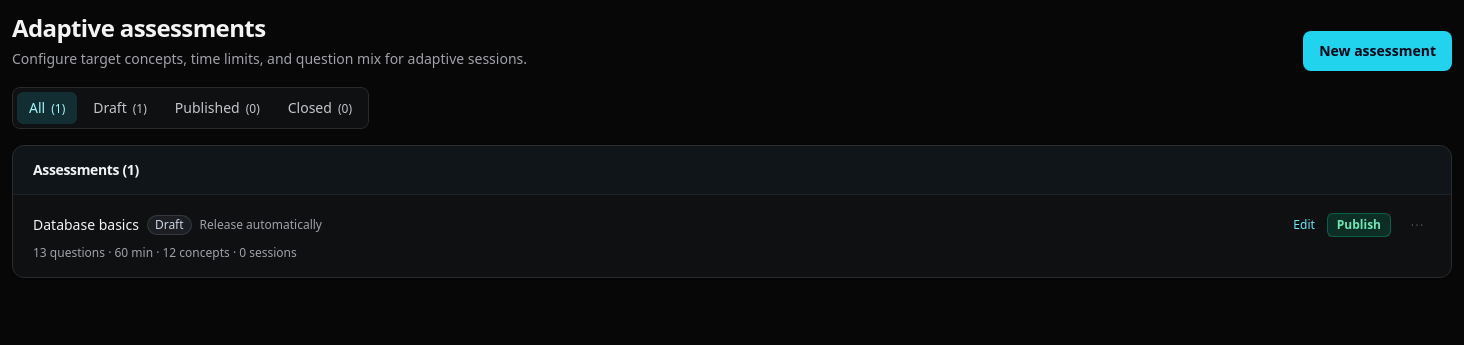
Scenario: blocks competing assessment actions until activation and reload finish
This screenshot has width=1464, height=345.
Check: the text "Database basics" is shown, box x1=33 y1=215 x2=139 y2=235
Click the button "Publish": (1359, 225) x1=1327 y1=213 x2=1391 y2=237
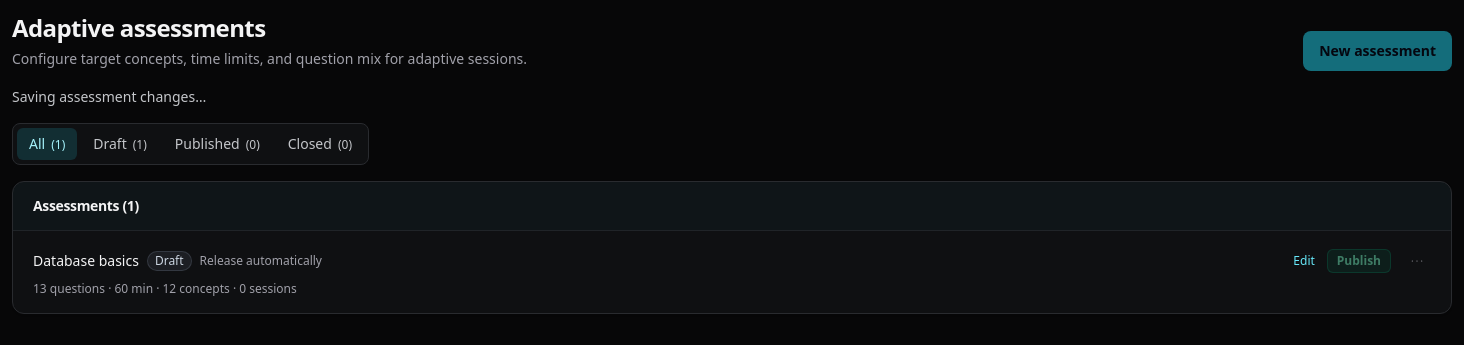
Check: the button "Publish" is disabled
Check: the button "Edit" is disabled, box x1=1293 y1=253 x2=1315 y2=269
Check: the button "New assessment" is disabled, box x1=1303 y1=31 x2=1452 y2=71
Click the button "Publish": (1359, 261) x1=1327 y1=249 x2=1391 y2=273
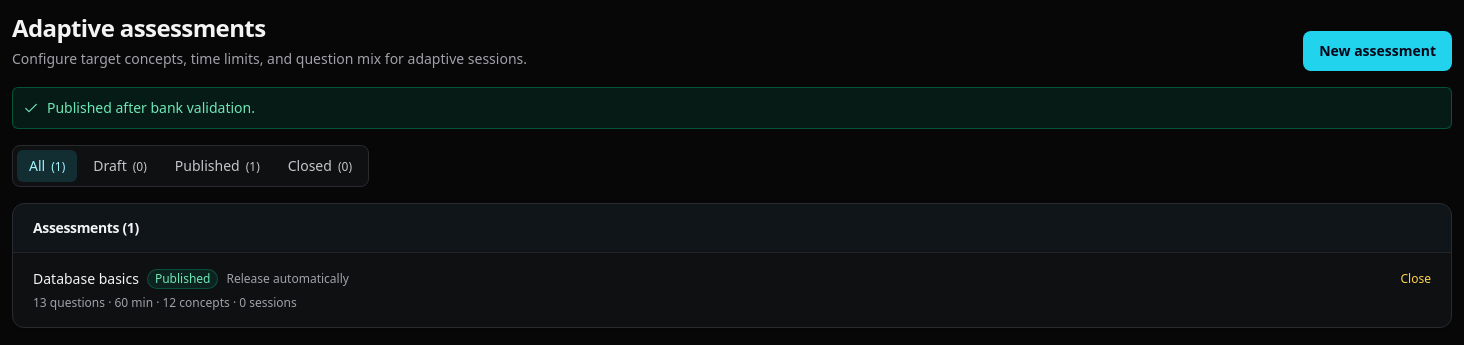
Check: the button "Close" is enabled, box x1=1400 y1=271 x2=1431 y2=287
Check: the text "Saving assessment changes…" is gone
